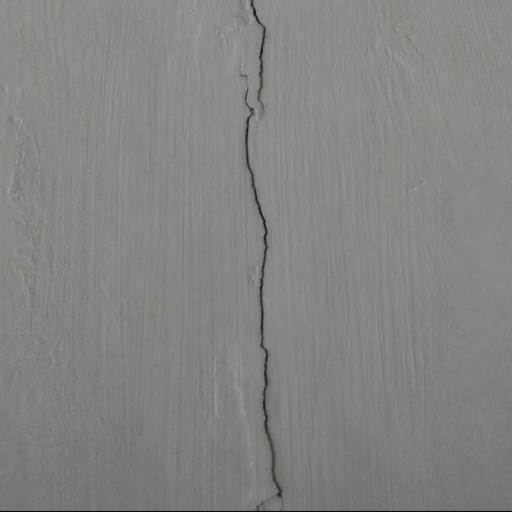major_crack: (222, 0, 306, 512)
